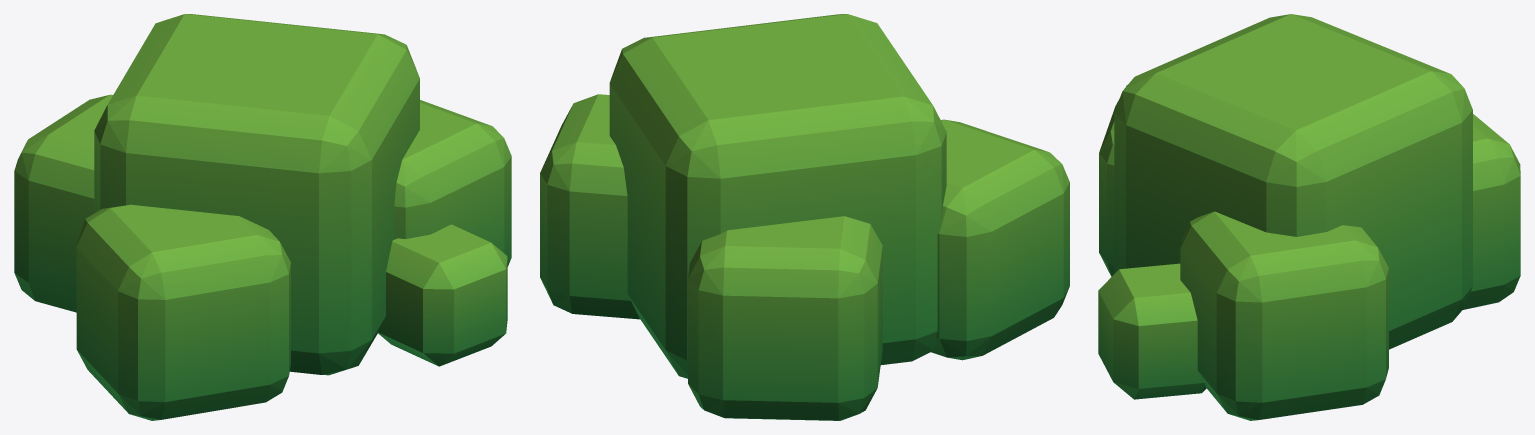
The model's file is kf_bush_2_e.fbx.
3 renders of one model, left to right at view 1: azimuth 30°, elevation 25°; view 2: azimuth 150°, elevation 25°; view 3: azimuth 270°, elevation 25°, orthographic. The views are drawn at different scales.
Visible parts, largest first — view 1: kf_bush_2_e_LOD0; view 2: kf_bush_2_e_LOD0; view 3: kf_bush_2_e_LOD0.
Part boxes in pixels (x1=…): kf_bush_2_e_LOD0: x1=14, y1=14, x2=511, y2=420; kf_bush_2_e_LOD0: x1=540, y1=14, x2=1069, y2=420; kf_bush_2_e_LOD0: x1=1098, y1=14, x2=1520, y2=420.
Size of what is drawn, in the model's own units: 3.76 by 2.13 by 3.21.
